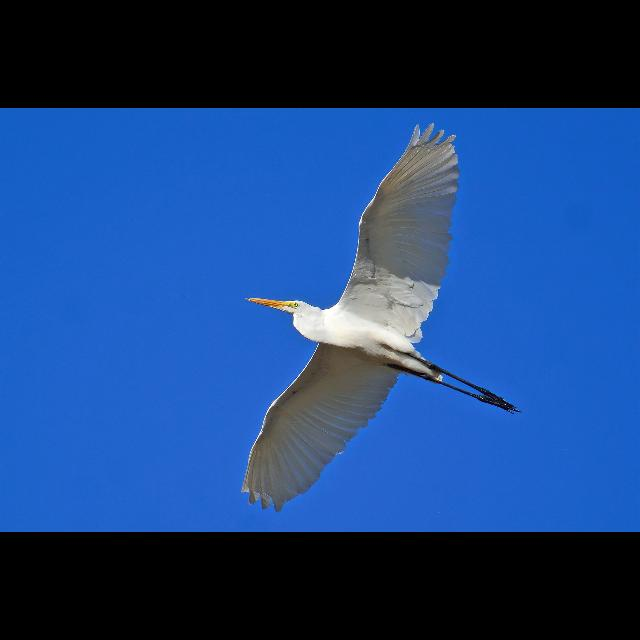egret: (231, 122, 524, 516)
